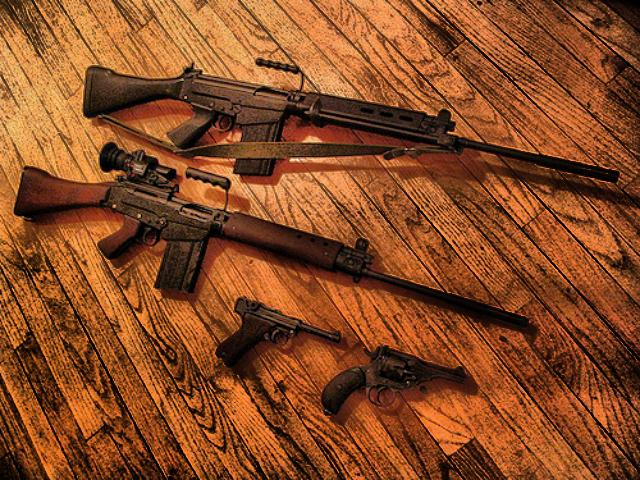pistol: (313, 343, 467, 413), (213, 296, 339, 368)
